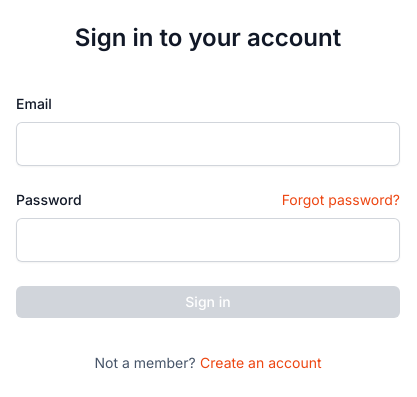
Test: useSignIn › should show invalid email format error
This screenshot has width=417, height=397.
Type "wrong_email@" into the field with test id "email" at (208,144), box [16,122,400,166]
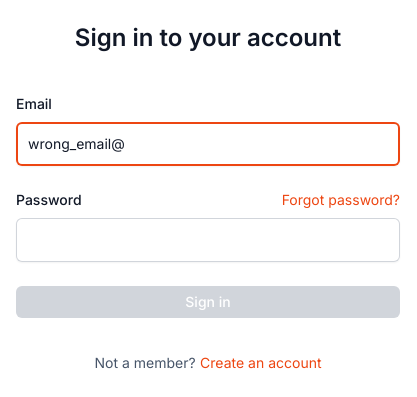
Click the button with test id "submit-button" at (208,302), box [16,286,400,318]
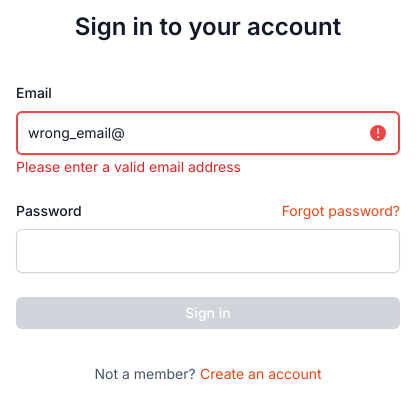
expect the button with test id "submit-button" is disabled: met, box [16,297,400,329]
expect the text "Please enter a valid email address" is shown: met, box [16,158,241,175]
